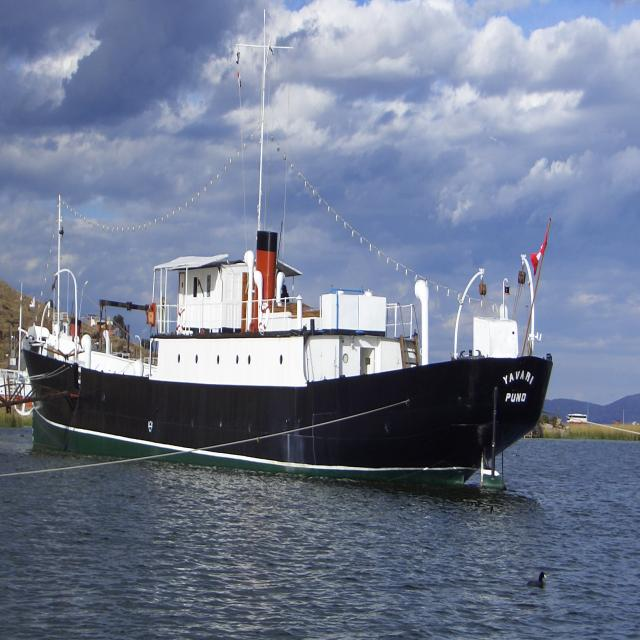fishing boat: (19, 177, 556, 494)
